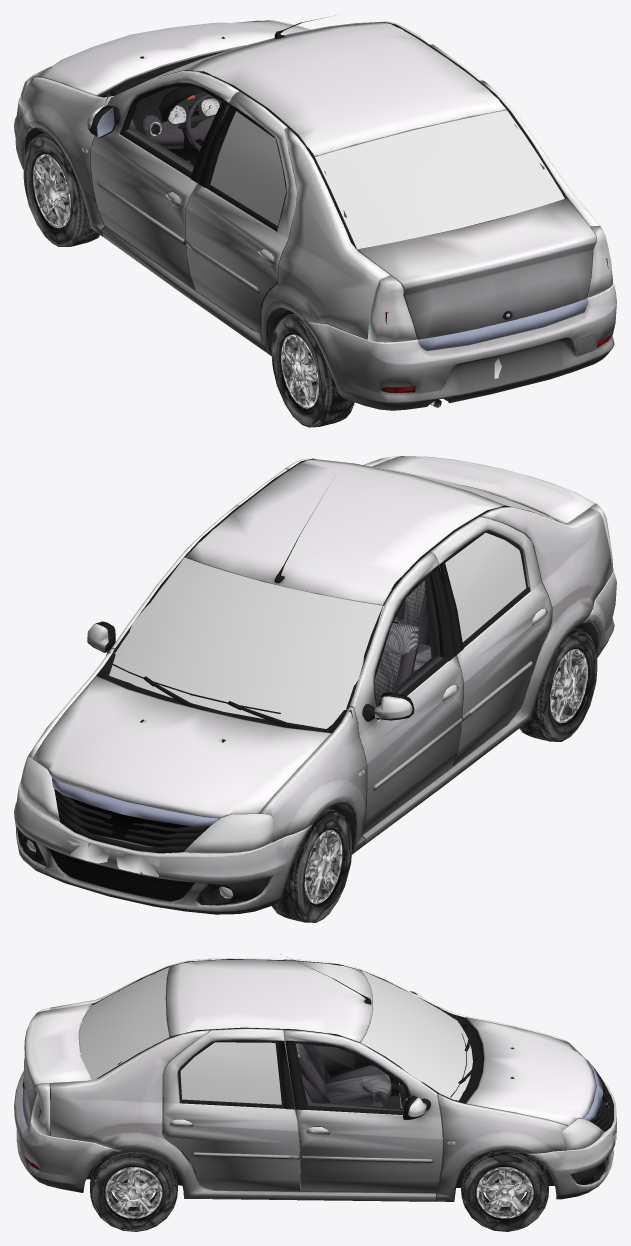
Rendered from dacor_logen_lod.glb.
The picture shows the model from 3 angles, top to bottom: view 1: azimuth 30°, elevation 25°; view 2: azimuth 150°, elevation 25°; view 3: azimuth 270°, elevation 25°; orthographic projection. The views are drawn at different scales.
Visible parts, largest first — view 1: Body_paint, Body_glass, Body_orig_Misc1Mtl, Wheel_RL_orig_Wheelrb1Mtl, Wheel_FL_orig_Wheelrb1Mtl, Body_orig_Interior1Mtl; view 2: Body_paint, Body_glass, Body_orig_Misc1Mtl, Body_orig_Interior1Mtl, Wheel_FL_orig_Wheelrb1Mtl, Wheel_RL_orig_Wheelrb1Mtl, Body_orig_Bottom1Mtl; view 3: Body_paint, Body_glass, Body_orig_Misc1Mtl, Wheel_RR_orig_Wheelrb1Mtl, Wheel_FR_orig_Wheelrb1Mtl, Body_orig_Interior1Mtl, Body_orig_Bottom1Mtl.
Part boxes in pixels (x1=…): Body_paint: x1=14, y1=20, x2=616, y2=410; Body_glass: x1=19, y1=43, x2=612, y2=342; Body_orig_Misc1Mtl: x1=27, y1=16, x2=590, y2=407; Wheel_RL_orig_Wheelrb1Mtl: x1=271, y1=313, x2=354, y2=427; Wheel_FL_orig_Wheelrb1Mtl: x1=23, y1=133, x2=100, y2=246; Body_orig_Interior1Mtl: x1=167, y1=91, x2=501, y2=378; Body_paint: x1=14, y1=456, x2=616, y2=914; Body_glass: x1=19, y1=456, x2=613, y2=898; Body_orig_Misc1Mtl: x1=17, y1=458, x2=541, y2=904; Body_orig_Interior1Mtl: x1=48, y1=580, x2=431, y2=901; Wheel_FL_orig_Wheelrb1Mtl: x1=272, y1=808, x2=352, y2=922; Wheel_RL_orig_Wheelrb1Mtl: x1=519, y1=627, x2=597, y2=741; Body_orig_Bottom1Mtl: x1=66, y1=622, x2=598, y2=912; Body_paint: x1=14, y1=958, x2=616, y2=1201; Body_glass: x1=31, y1=967, x2=604, y2=1150; Body_orig_Misc1Mtl: x1=22, y1=954, x2=613, y2=1190; Wheel_RR_orig_Wheelrb1Mtl: x1=90, y1=1150, x2=177, y2=1231; Wheel_FR_orig_Wheelrb1Mtl: x1=461, y1=1151, x2=548, y2=1231; Body_orig_Interior1Mtl: x1=295, y1=1043, x2=616, y2=1159; Body_orig_Bottom1Mtl: x1=87, y1=1008, x2=615, y2=1201.
Size of the model in its own units: 1.98 by 1.82 by 4.29.
9 materials, 8 textured.
